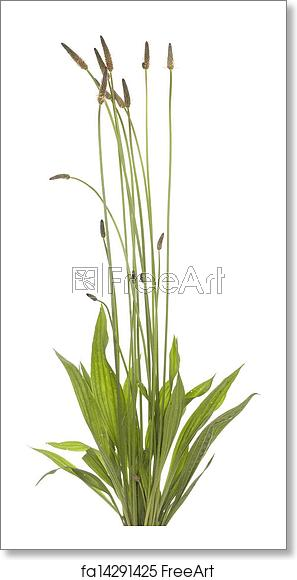buckhorn plantain: (44, 33, 257, 531)
